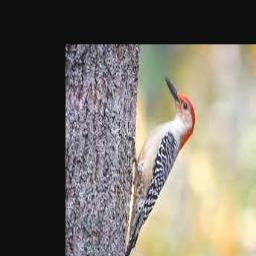Woodpecker: (122, 77, 196, 256)
